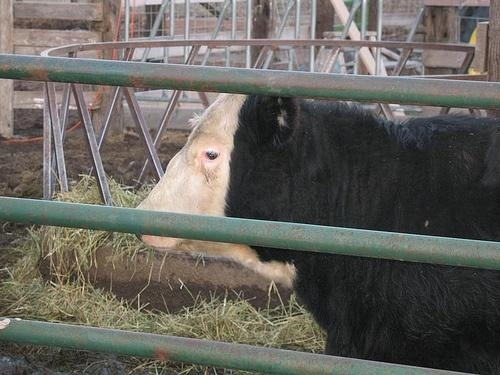cow: (132, 88, 500, 375)
